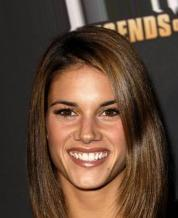face: (54, 101, 121, 169)
